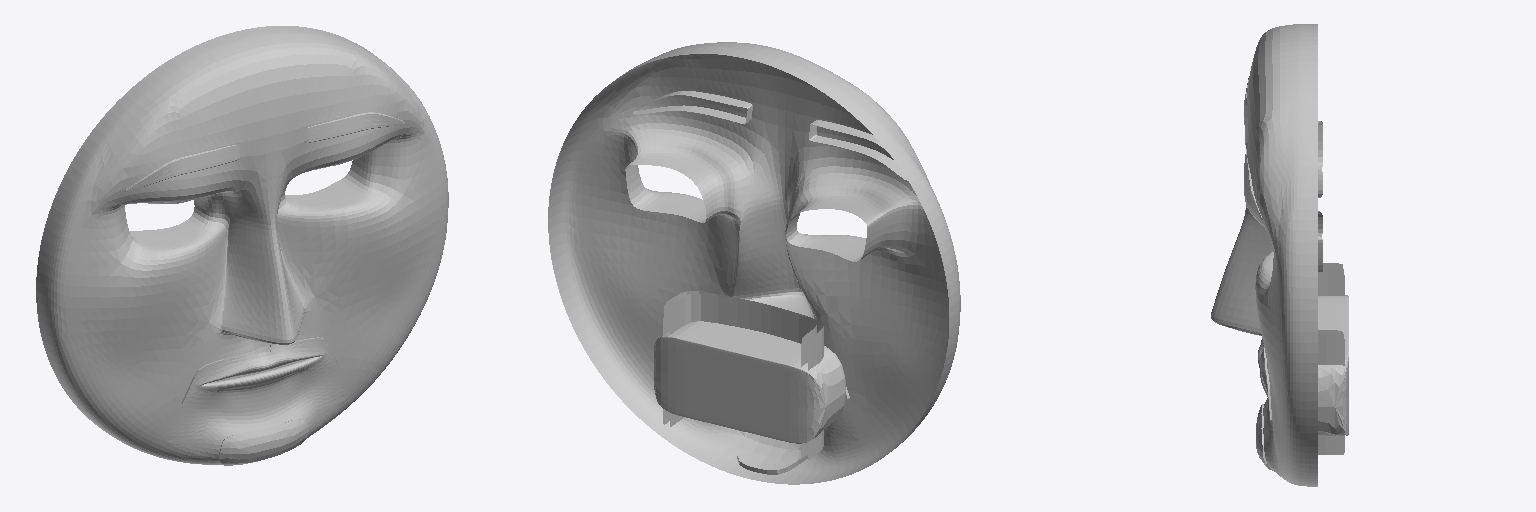
File: Parker 2 Test.obj
3 views of the same model, side by side, from view 1: azimuth 30°, elevation 25°; view 2: azimuth 150°, elevation 25°; view 3: azimuth 270°, elevation 25° (orthographic).
Visible parts, largest first — view 1: Circle.008_Circle.004; view 2: Circle.008_Circle.004; view 3: Circle.008_Circle.004.
Part boxes in pixels (x1,y1,x2,y2): Circle.008_Circle.004: (36, 26, 448, 465); Circle.008_Circle.004: (548, 42, 960, 484); Circle.008_Circle.004: (1211, 24, 1348, 486).
Size of the model in its own units: 50.64 by 50.76 by 15.12.